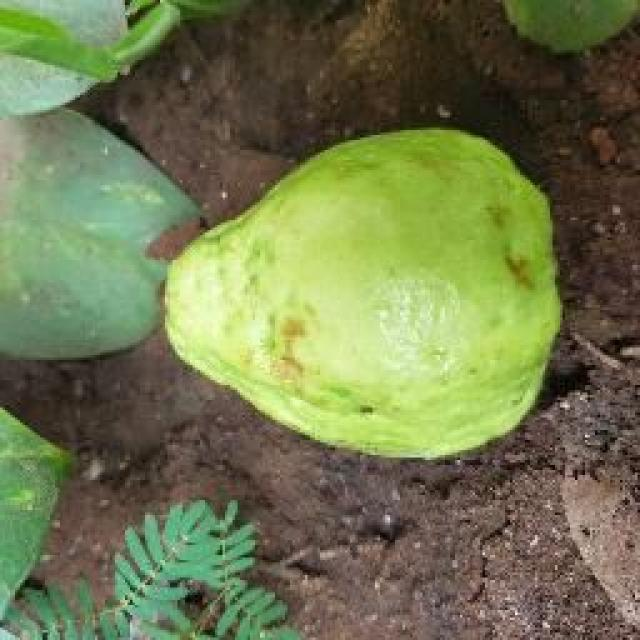Good_Guava: (160, 125, 565, 462)
